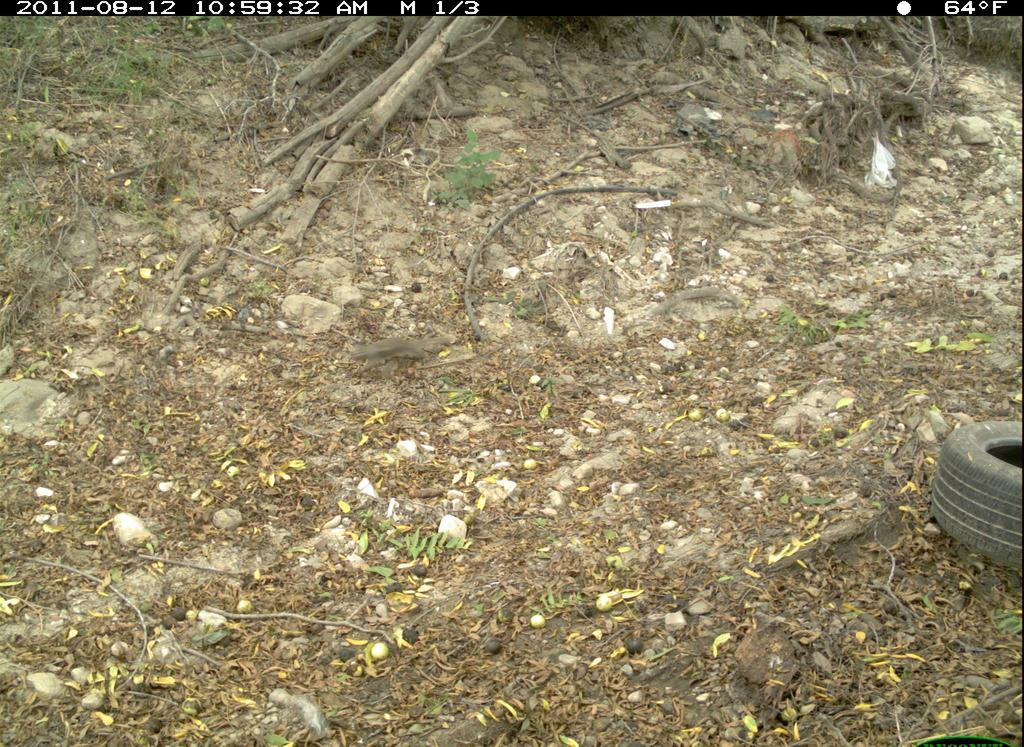squirrel: (346, 331, 447, 378)
